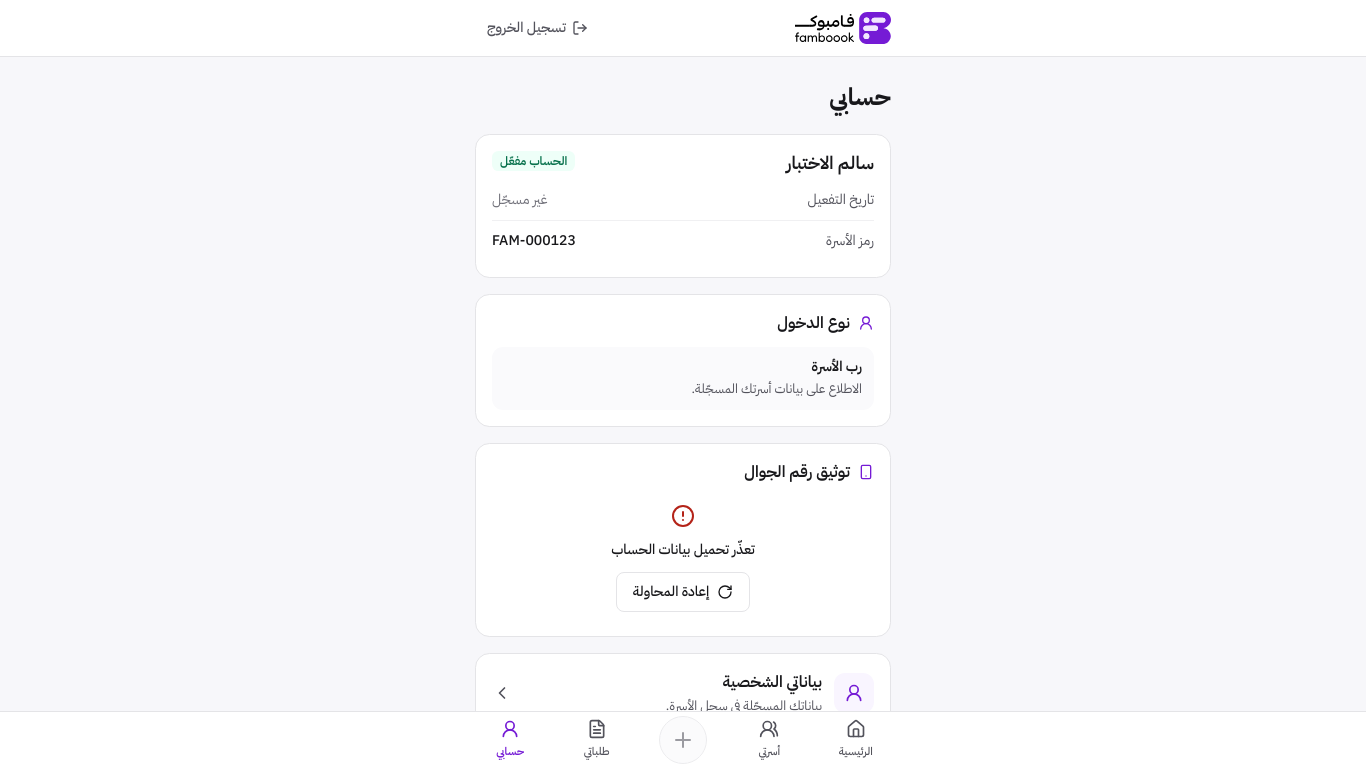
the account › shows a loading state, then an inline error with retry for a server failure
Expected: the text "تعذّر تحميل بيانات الحساب" is shown, x1=611 y1=540 x2=755 y2=560
Click the button "إعادة المحاولة" at coordinates (683, 592), box x1=616 y1=572 x2=750 y2=612
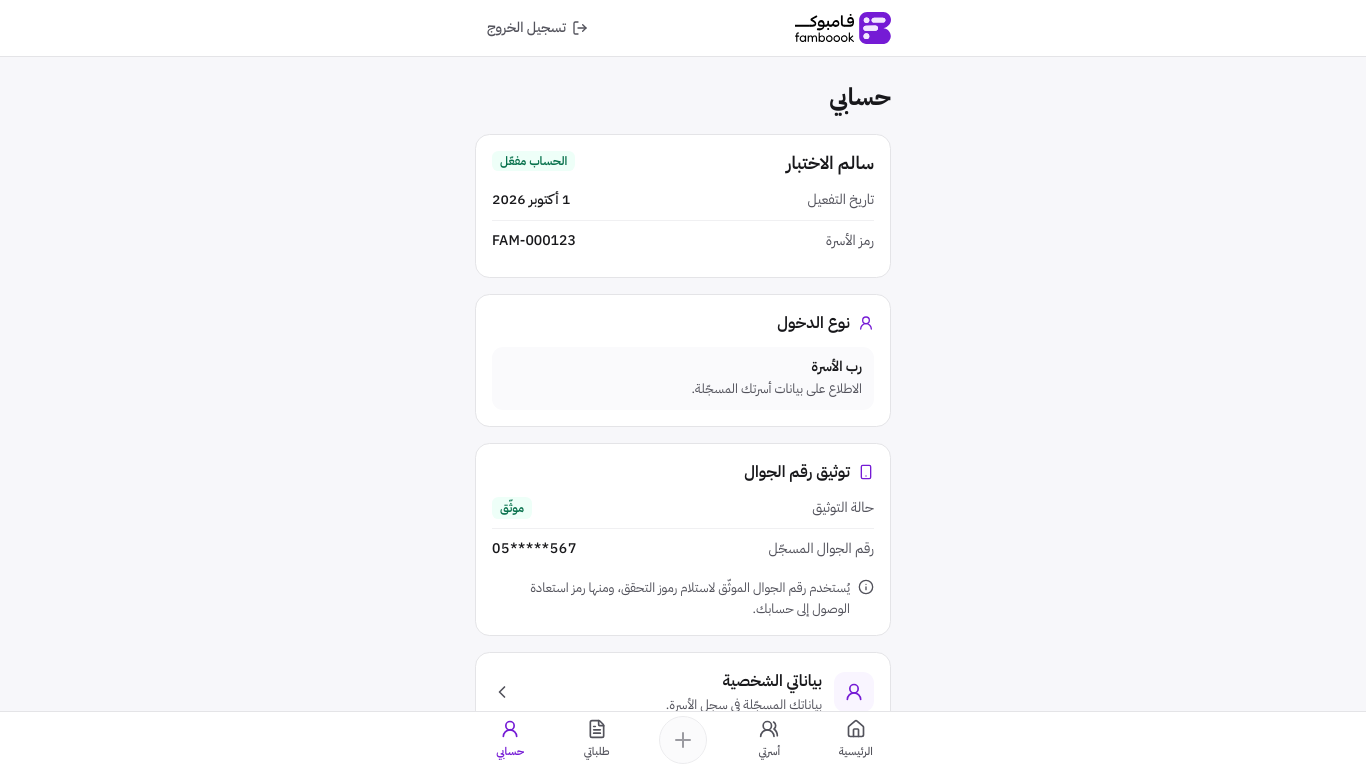
Result: the text "موثّق" is shown at x1=492 y1=496 x2=532 y2=518
